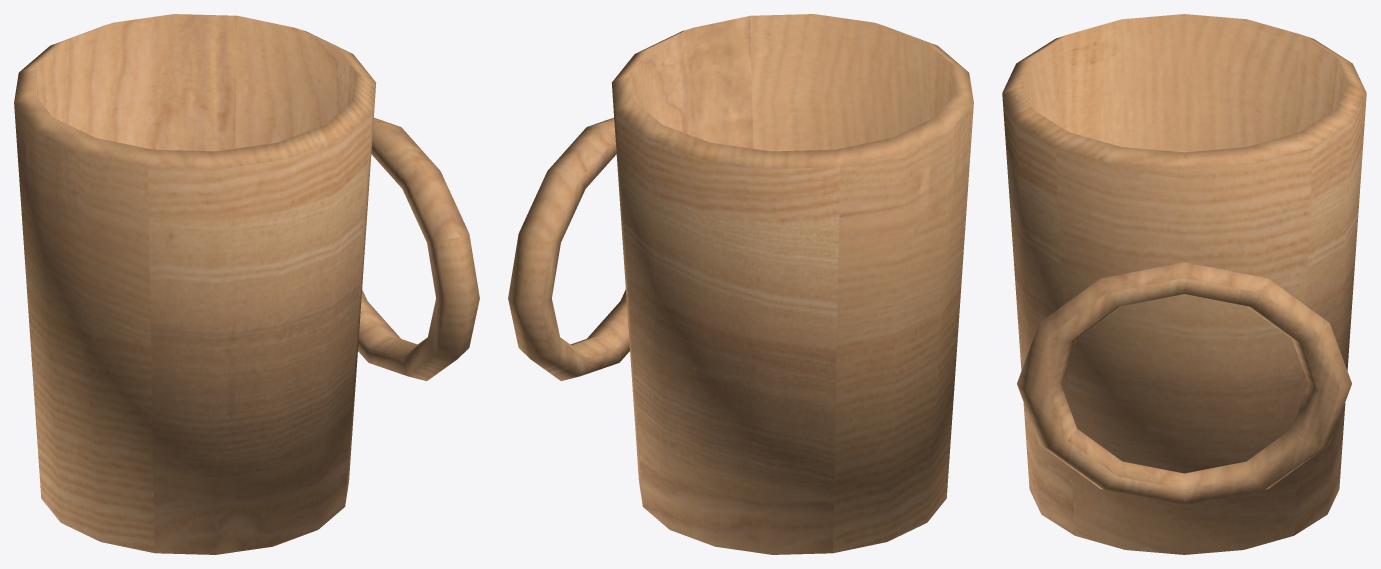
The model's file is tankard.glb.
3 views of the same model, side by side, from view 1: azimuth 30°, elevation 25°; view 2: azimuth 150°, elevation 25°; view 3: azimuth 270°, elevation 25° (orthographic).
Parts seen in each view (by area): view 1: tankard; view 2: tankard; view 3: tankard.
Part boxes in pixels (box(x1,y1,x2,y2)): tankard: box(14, 14, 479, 554); tankard: box(508, 14, 973, 554); tankard: box(1002, 14, 1366, 554).
Size of the model in its own units: 0.1152 by 0.123 by 0.1.
Materials: 1 (1 with a texture image).
